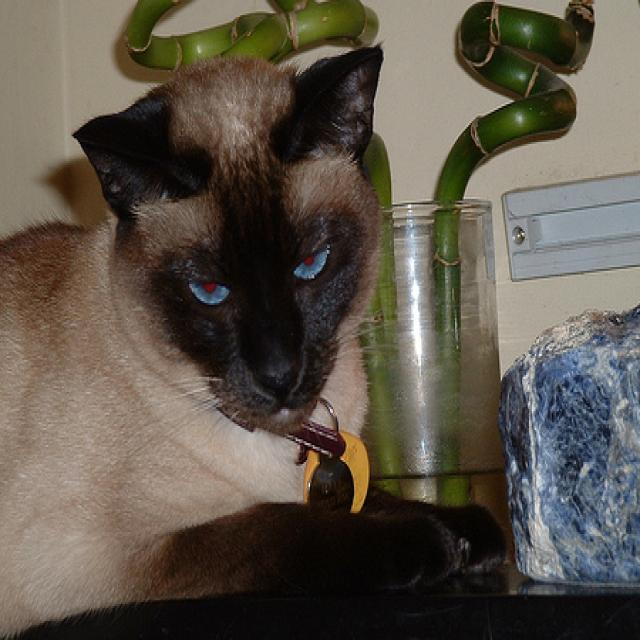Siamese: (0, 38, 508, 640)
